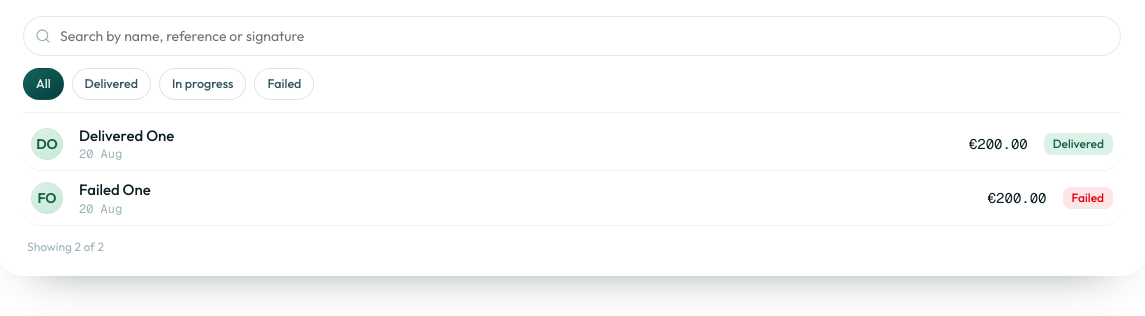
Scenario: TransferHistory › status filter narrows to the chosen group
The width and height of the screenshot is (1145, 316).
Check: the text "Delivered One" is shown, box [79, 126, 174, 145]
Click the button "Failed" at (284, 84), box [254, 68, 314, 100]
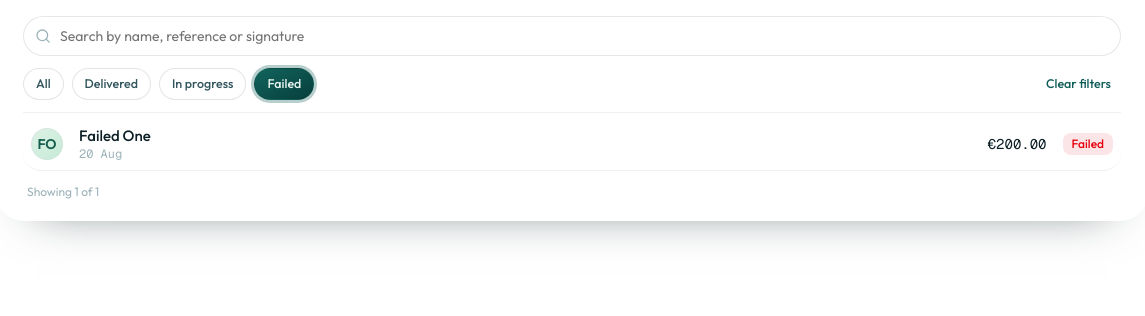
Check: the text "Failed One" is shown, box [79, 126, 151, 145]
Check: the button "Delivered One" is gone
